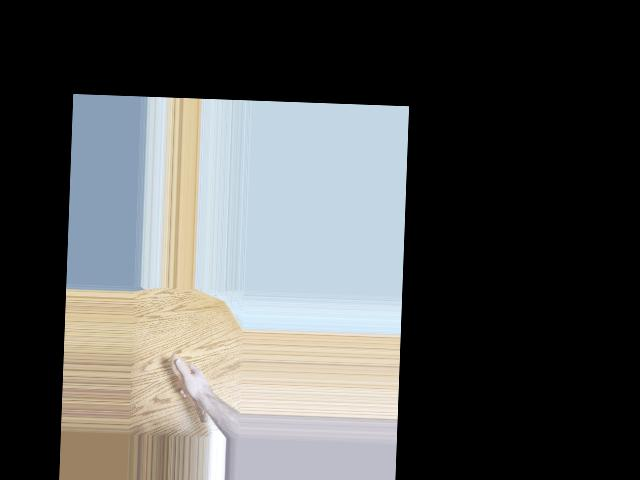sweet_potato: (167, 352, 211, 434)
